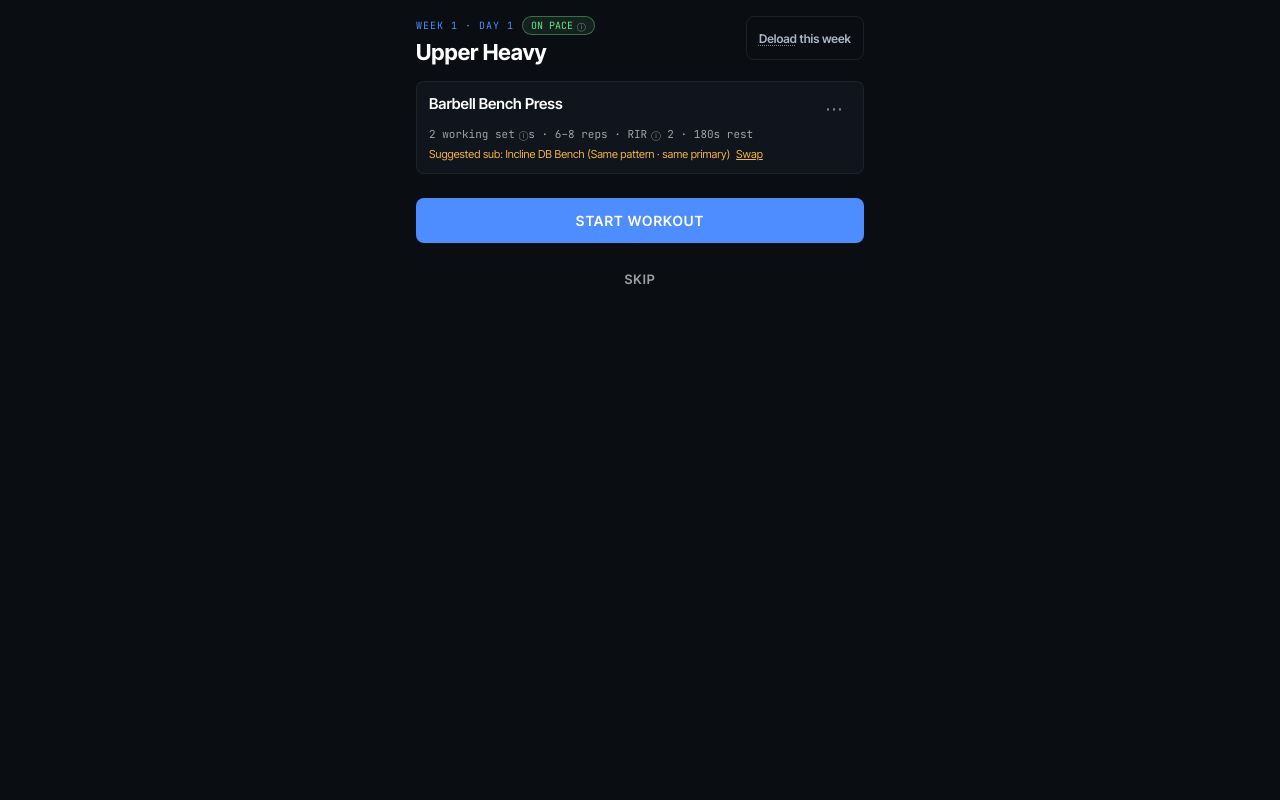
Test case: <TodayWorkoutMobile> › opens MidSessionSwapSheet on Swap click
Click the button "Swap" at (750, 154), box [736,147,763,161]
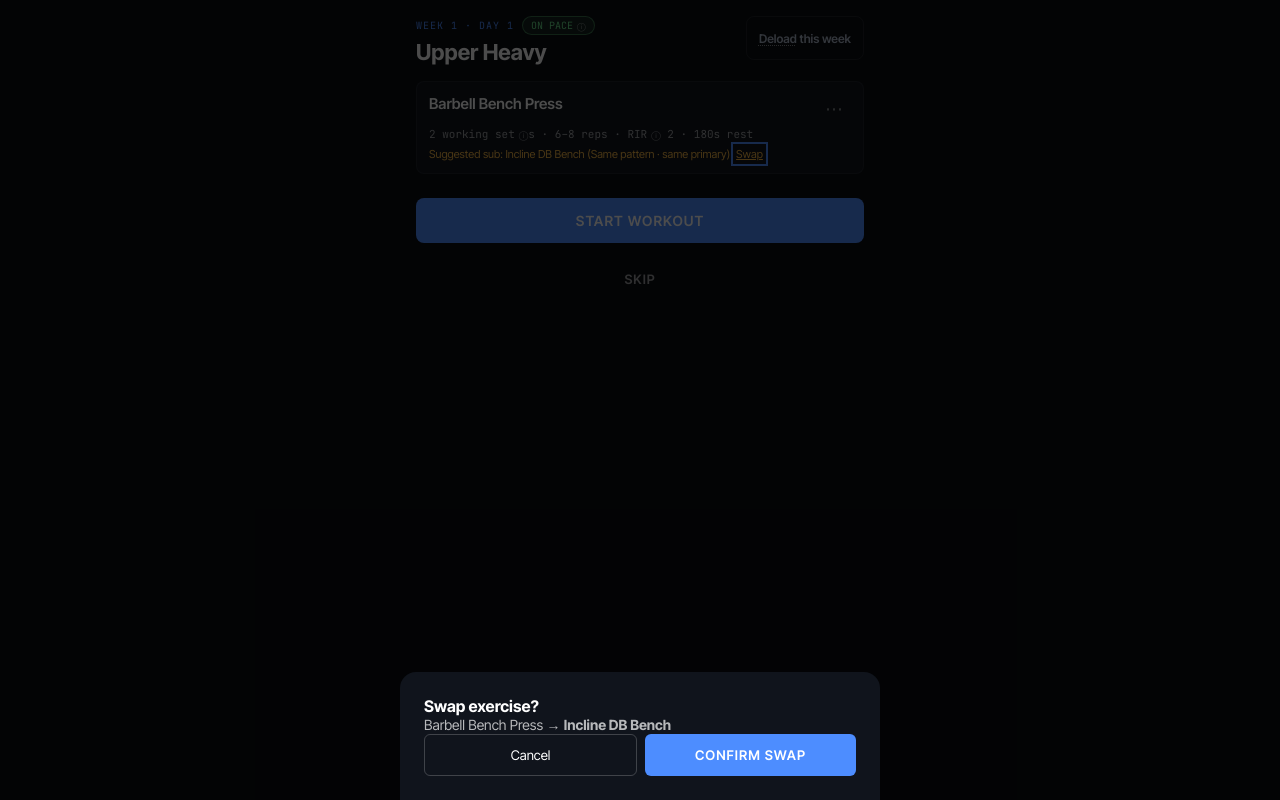
Check: the dialog is shown
Check: the heading "Swap exercise?" is shown, box [424,696,539,716]
